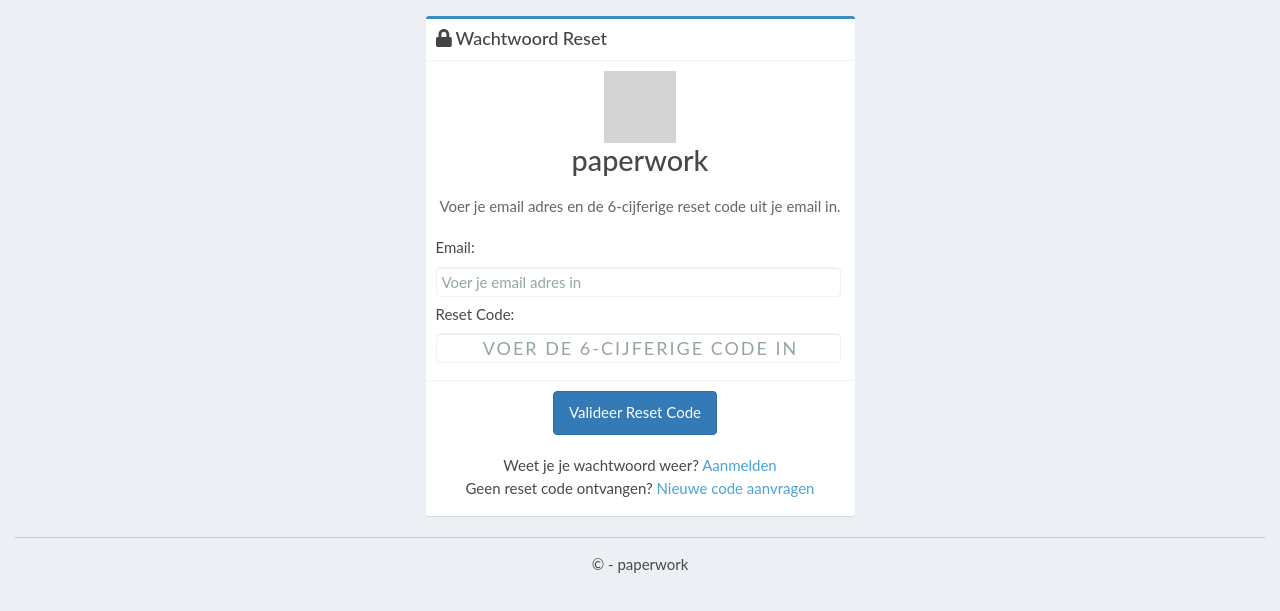
PasswordReset › advances to step 2 when the reset code validates
Type "jan@example.com" into the field with placeholder "Voer je email adres in" at (638, 282), box [436, 267, 840, 297]
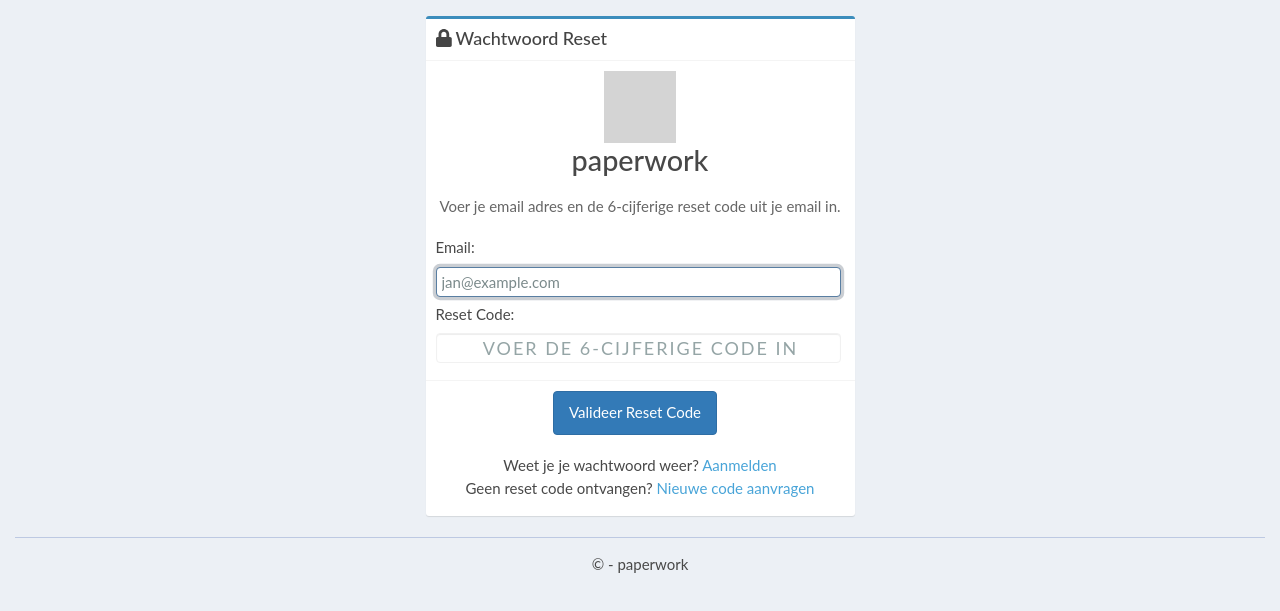
Type "ABC123" into the field with placeholder "Voer de 6-cijferige code in" at (638, 348), box [436, 333, 840, 363]
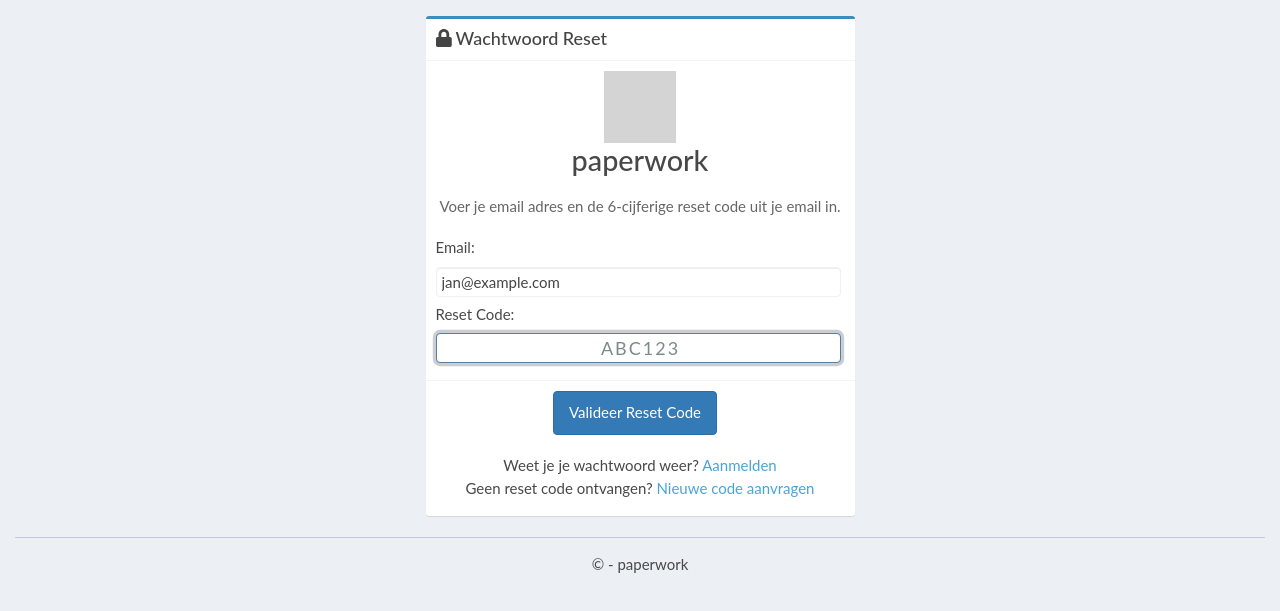
Click the button "Valideer Reset Code" at (635, 413), box [553, 391, 717, 435]
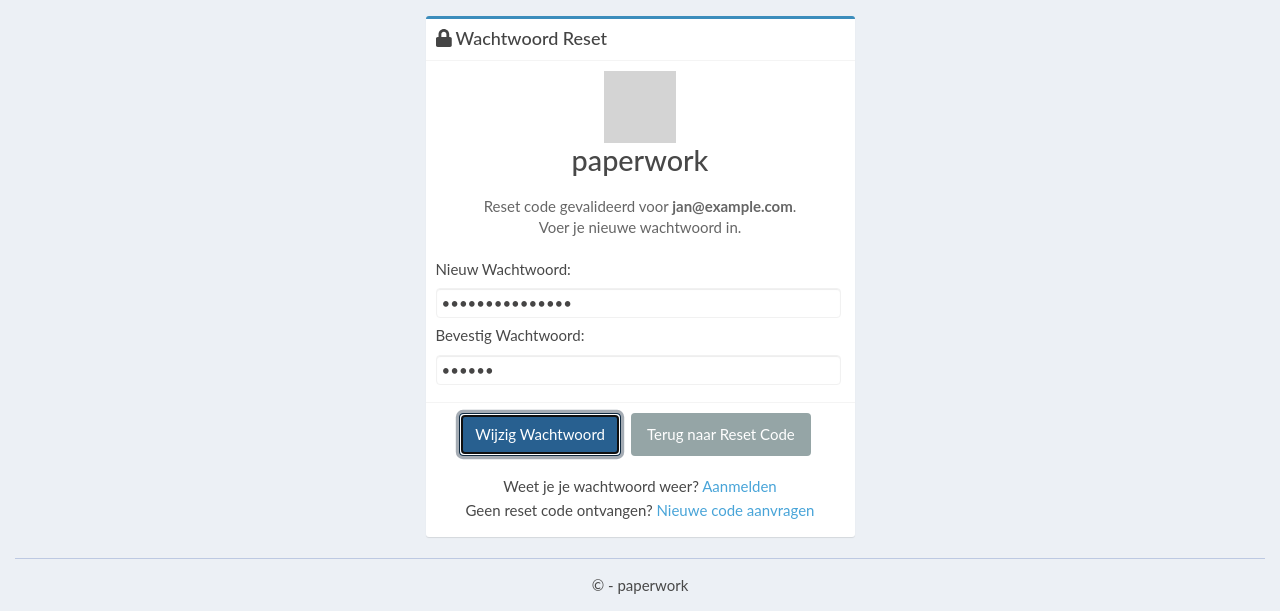
Check: the button "Wijzig Wachtwoord" is shown, box [459, 413, 621, 456]
